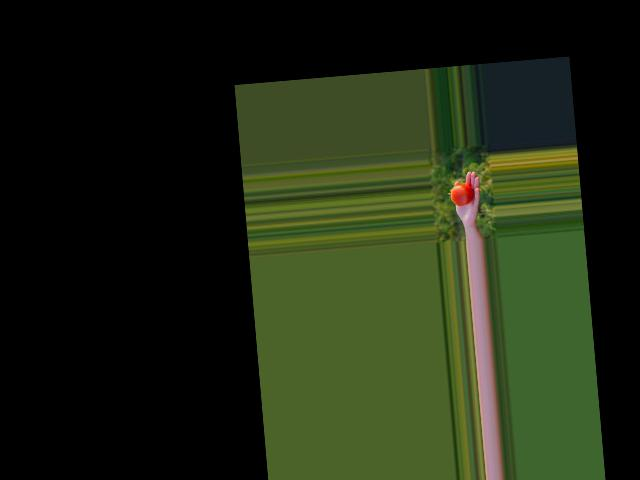tomato: (450, 183, 475, 206)
